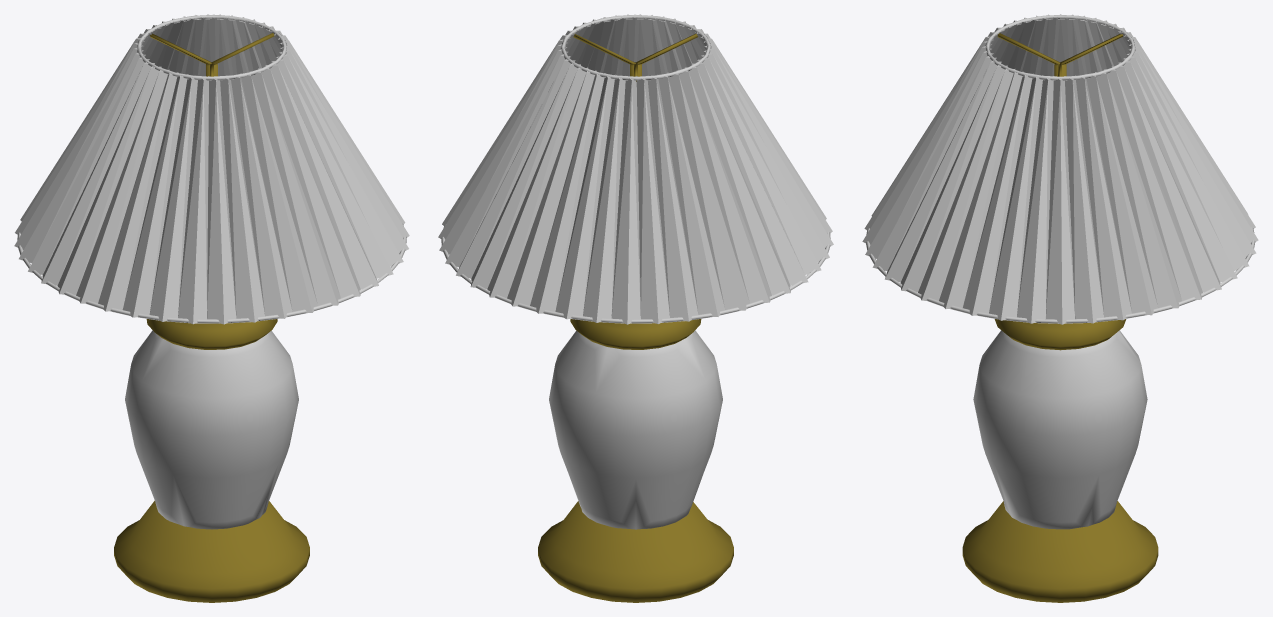
Rendered from 10_Oxblood_Lamp.fbx.
3 views of the same model, side by side, from view 1: azimuth 30°, elevation 25°; view 2: azimuth 150°, elevation 25°; view 3: azimuth 270°, elevation 25° (orthographic).
Parts seen in each view (by area): view 1: 10_Oxblood_Lamp; view 2: 10_Oxblood_Lamp; view 3: 10_Oxblood_Lamp.
Part boxes in pixels (x1,y1,x2,y2): 10_Oxblood_Lamp: [14, 14, 409, 602]; 10_Oxblood_Lamp: [438, 14, 833, 602]; 10_Oxblood_Lamp: [862, 14, 1258, 602].
Size of the model in its own units: 0.5097 by 0.737 by 0.5097.
